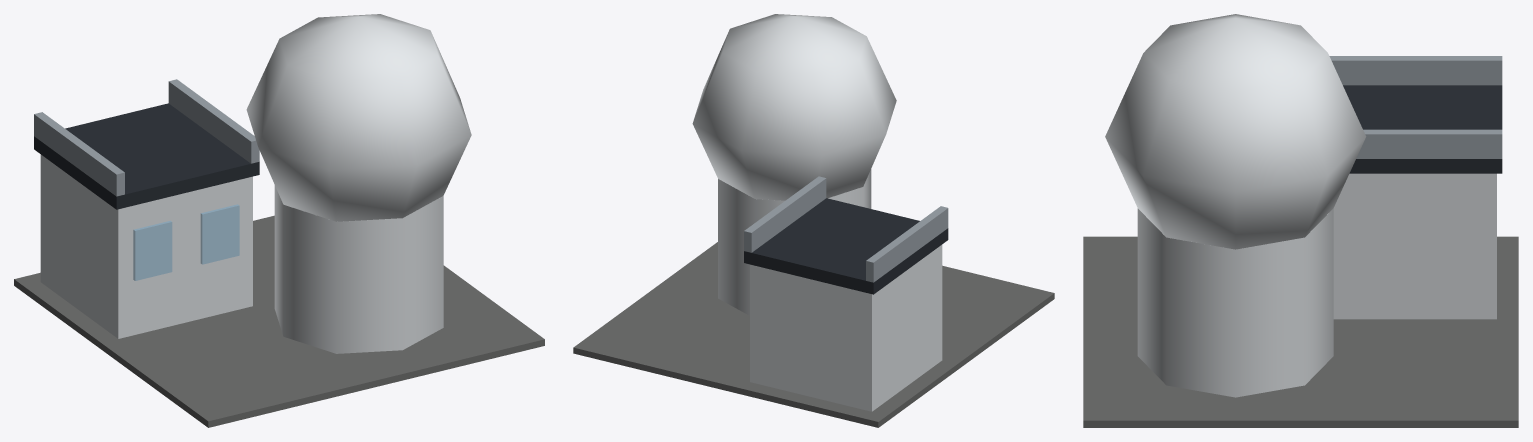
Rendered from bld_special_radar_a08_lod1.glb.
3 views of the same model, side by side, from view 1: azimuth 30°, elevation 25°; view 2: azimuth 150°, elevation 25°; view 3: azimuth 270°, elevation 25° (orthographic). The views are drawn at different scales.
Visible parts, largest first — view 1: body; view 2: body; view 3: body.
Part boxes in pixels (box(x1,y1,x2,y2)): body: box(14, 14, 544, 427); body: box(573, 14, 1054, 427); body: box(1083, 14, 1518, 427).
Bounding box in the file's own units: 8 × 7 × 8.
